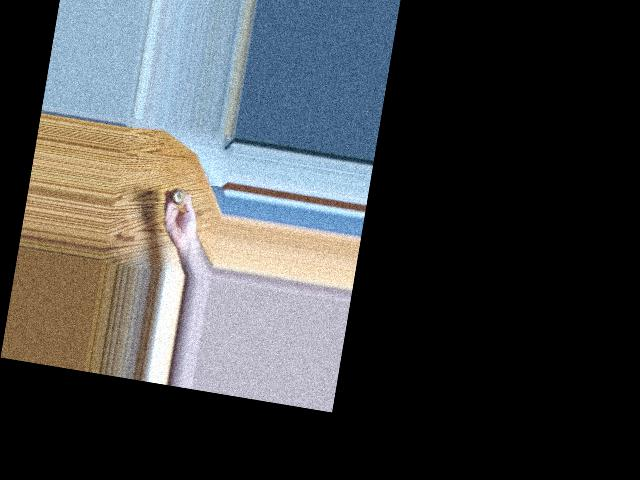sweet_potato: (171, 183, 191, 207)
